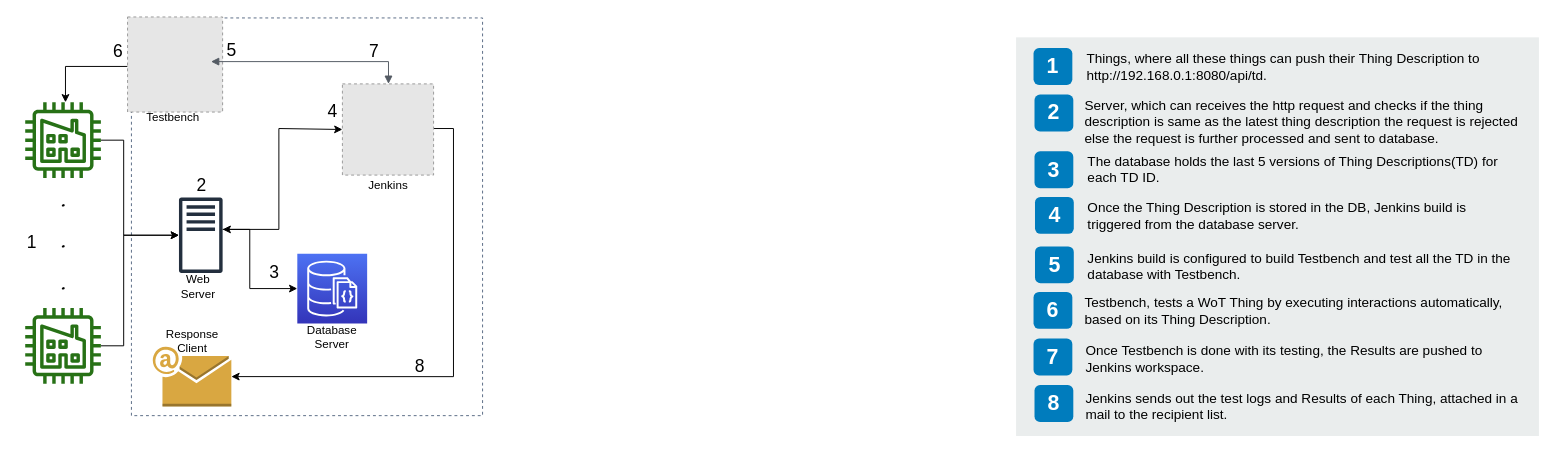
Some shapes in this 1555 by 453 pixel diagram are drawn without their labels. Grey dashed boxes stand in for pictures. The box of each missing label's shape, as (x1, y1, x2, y2) in pixels:
Light: (25, 307, 100, 383)
Thermometer: (25, 102, 100, 178)
